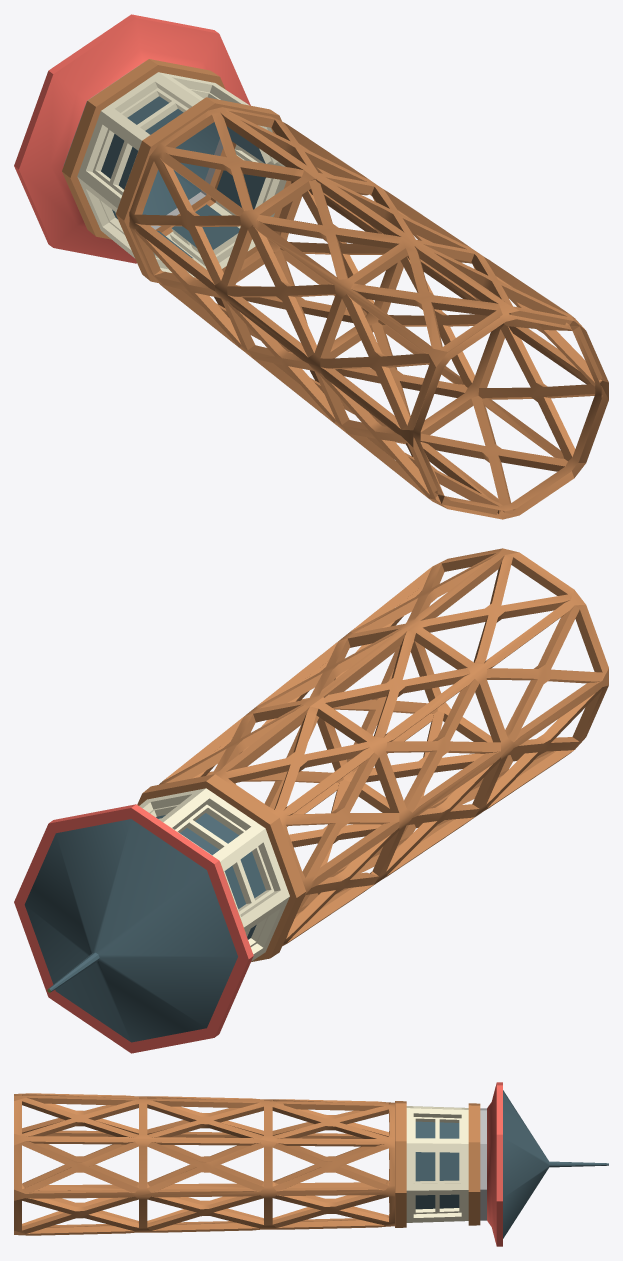
The model's file is Lighthouse.fbx.
3 renders of one model, top to bottom at view 1: azimuth 30°, elevation 25°; view 2: azimuth 150°, elevation 25°; view 3: azimuth 270°, elevation 25°, orthographic. The views are drawn at different scales.
Visible parts, largest first — view 1: Lighthouse; view 2: Lighthouse; view 3: Lighthouse.
Part boxes in pixels (x1,y1,x2,y2): Lighthouse: [14, 14, 608, 519]; Lighthouse: [14, 548, 608, 1053]; Lighthouse: [14, 1082, 608, 1246].
Bounding box in the file's own units: 385 × 385 × 1311.
